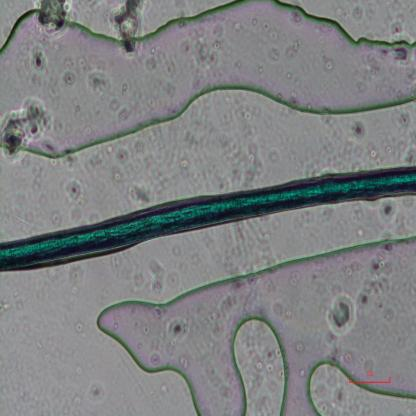Air bubble: (0, 1, 416, 161), (94, 242, 416, 414)
Background material: (1, 89, 50, 164), (159, 21, 228, 68), (357, 243, 395, 310), (109, 0, 145, 60), (224, 140, 268, 186), (325, 289, 358, 334), (36, 0, 72, 39), (254, 10, 281, 62), (221, 278, 253, 320), (349, 48, 382, 88), (251, 342, 283, 378), (314, 36, 336, 74), (353, 141, 394, 161), (126, 267, 149, 294), (167, 316, 190, 343), (286, 32, 306, 63), (30, 42, 48, 76), (111, 98, 134, 124), (67, 262, 83, 296), (330, 382, 348, 410), (128, 186, 152, 206), (394, 105, 413, 130), (87, 71, 110, 91), (68, 52, 91, 72), (86, 381, 102, 408), (351, 118, 368, 142), (48, 201, 64, 226), (130, 319, 152, 337), (64, 178, 82, 199), (387, 19, 404, 41), (390, 47, 410, 65), (103, 166, 125, 182), (111, 144, 131, 161), (382, 196, 396, 220), (148, 45, 159, 72), (150, 260, 166, 278), (401, 148, 416, 167), (176, 350, 190, 370), (60, 73, 76, 90), (69, 390, 84, 405), (0, 291, 8, 319), (295, 338, 306, 358), (233, 18, 246, 34), (281, 66, 294, 82), (72, 318, 84, 335), (148, 352, 162, 366), (353, 226, 366, 240), (118, 83, 130, 98), (288, 273, 303, 284), (274, 302, 284, 315), (75, 362, 84, 376), (136, 142, 144, 156), (348, 12, 362, 19), (258, 66, 264, 74)
Microfibre: (0, 166, 416, 273)
